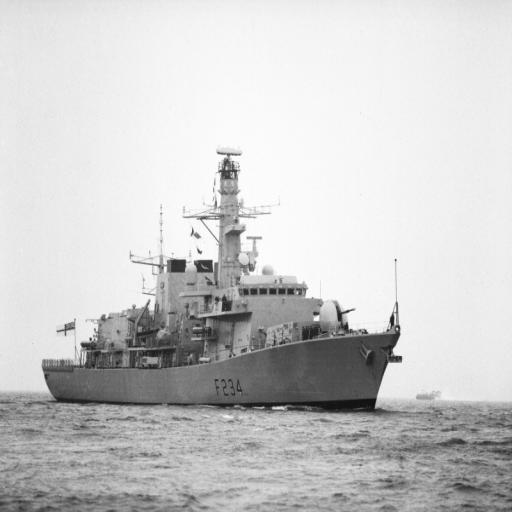Fragata: (36, 144, 403, 420)
